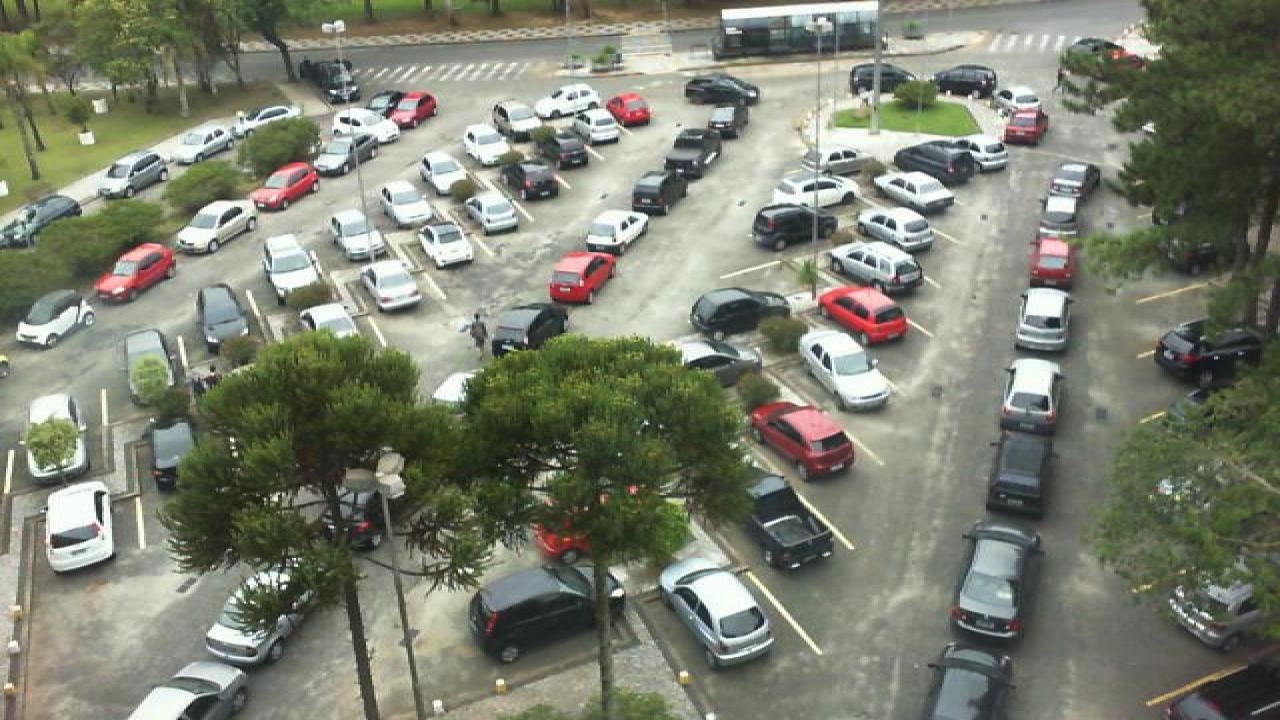Car: (656, 558, 776, 666), (464, 566, 594, 661), (946, 524, 1042, 637), (740, 468, 836, 572), (748, 400, 856, 483), (1160, 574, 1264, 654), (1152, 317, 1268, 387), (798, 329, 894, 412), (200, 589, 304, 665), (924, 640, 1022, 720), (126, 660, 252, 720), (40, 481, 118, 572), (984, 428, 1054, 516), (816, 285, 912, 344), (24, 394, 90, 479), (472, 300, 572, 356), (822, 241, 926, 294), (996, 357, 1066, 434), (690, 287, 790, 340), (94, 242, 176, 305), (170, 199, 260, 255), (116, 327, 176, 408), (658, 338, 754, 388), (750, 202, 844, 252), (192, 282, 252, 360), (14, 290, 90, 349), (0, 195, 84, 248), (1014, 286, 1074, 352), (890, 138, 980, 182), (358, 256, 426, 314), (872, 170, 958, 215), (246, 162, 320, 214), (854, 210, 936, 255), (150, 418, 198, 494), (548, 251, 616, 304), (264, 234, 322, 296), (98, 151, 172, 198), (328, 209, 390, 262), (296, 57, 362, 106), (160, 124, 240, 162), (774, 173, 858, 209), (292, 302, 360, 346), (684, 71, 762, 108), (306, 130, 368, 176), (586, 209, 652, 252), (414, 222, 474, 268), (418, 148, 478, 194), (628, 168, 684, 217), (536, 82, 610, 118), (1028, 236, 1076, 290), (664, 128, 720, 174), (848, 63, 918, 99), (380, 184, 436, 228), (468, 190, 522, 235), (510, 156, 562, 202), (380, 90, 438, 130), (952, 136, 1010, 176), (932, 64, 1000, 98), (336, 107, 400, 143), (698, 102, 750, 146), (800, 146, 868, 178), (1048, 161, 1102, 201), (462, 125, 512, 166), (546, 122, 590, 168), (1042, 196, 1086, 242), (230, 105, 302, 132), (1002, 104, 1048, 145), (490, 102, 540, 139), (990, 83, 1042, 117), (604, 92, 652, 127)
